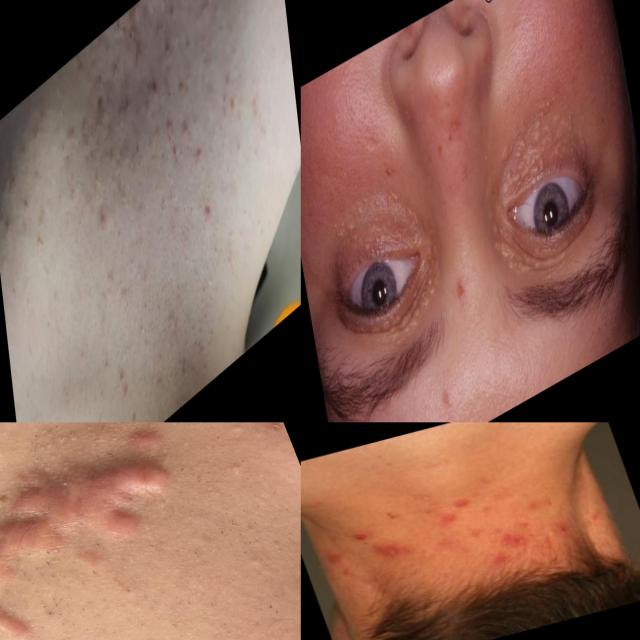acne_scars: (123, 0, 147, 60), (89, 80, 110, 125)
comedone: (420, 535, 474, 570), (538, 521, 565, 550), (103, 132, 118, 176), (115, 343, 128, 389), (160, 28, 172, 74), (122, 84, 136, 122), (0, 198, 11, 246), (90, 151, 103, 191), (206, 230, 222, 262), (198, 270, 211, 306), (152, 283, 164, 317), (138, 307, 148, 344)
keloid: (0, 422, 212, 593), (0, 590, 41, 640)
milium: (323, 90, 348, 134), (330, 211, 349, 243)
papule: (478, 520, 546, 578), (142, 47, 161, 110), (452, 266, 473, 308), (374, 540, 409, 565), (192, 122, 206, 170), (450, 492, 476, 513), (435, 510, 462, 530), (160, 109, 176, 142), (352, 528, 376, 544)
syringoma: (338, 194, 430, 283), (480, 191, 518, 295), (533, 110, 582, 170), (504, 136, 552, 194), (498, 242, 541, 295), (362, 181, 407, 231), (407, 272, 442, 322), (381, 310, 419, 352), (500, 130, 530, 170)
